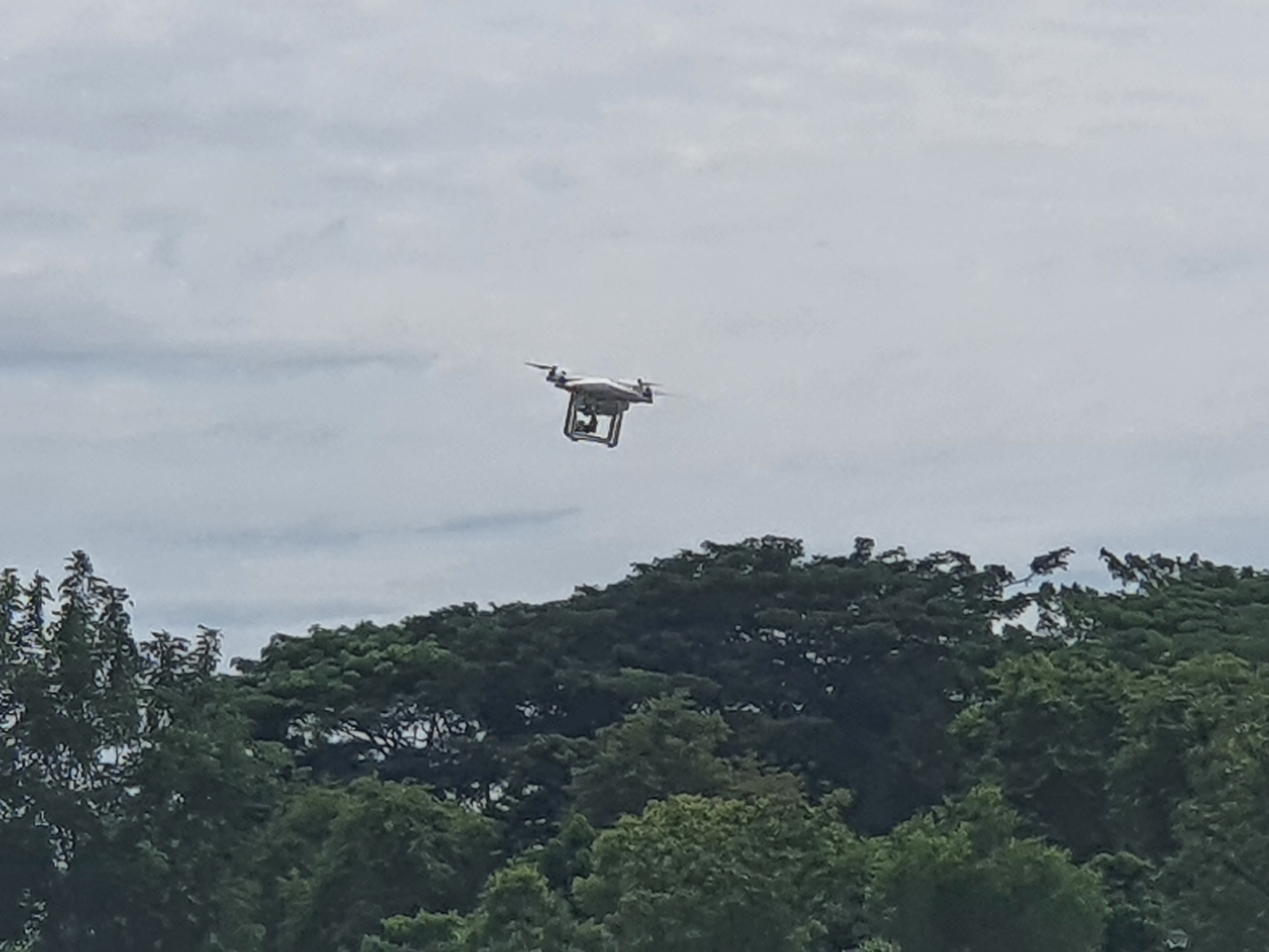drone_other: (522, 353, 668, 452)
